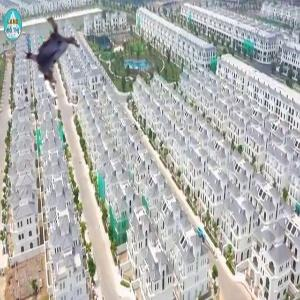drone: (13, 15, 95, 97)
